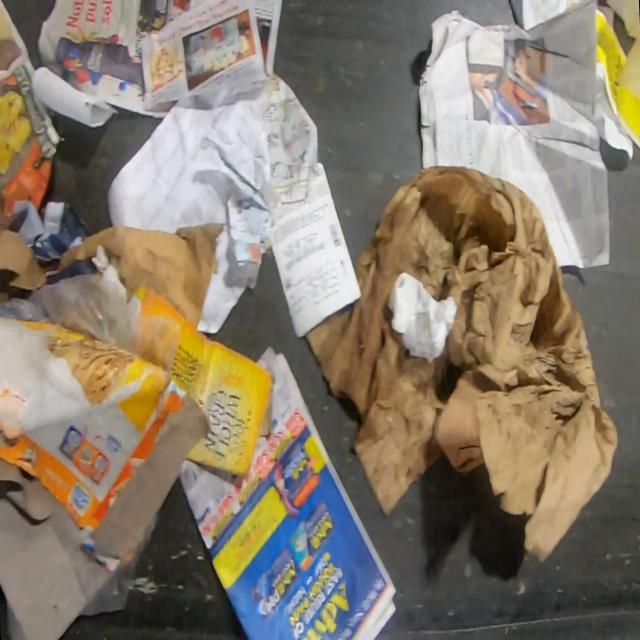cardboard: (0, 319, 211, 639), (130, 285, 275, 478), (56, 222, 224, 329), (0, 228, 48, 292)
soft_plastic: (0, 271, 182, 374), (80, 554, 142, 618)
